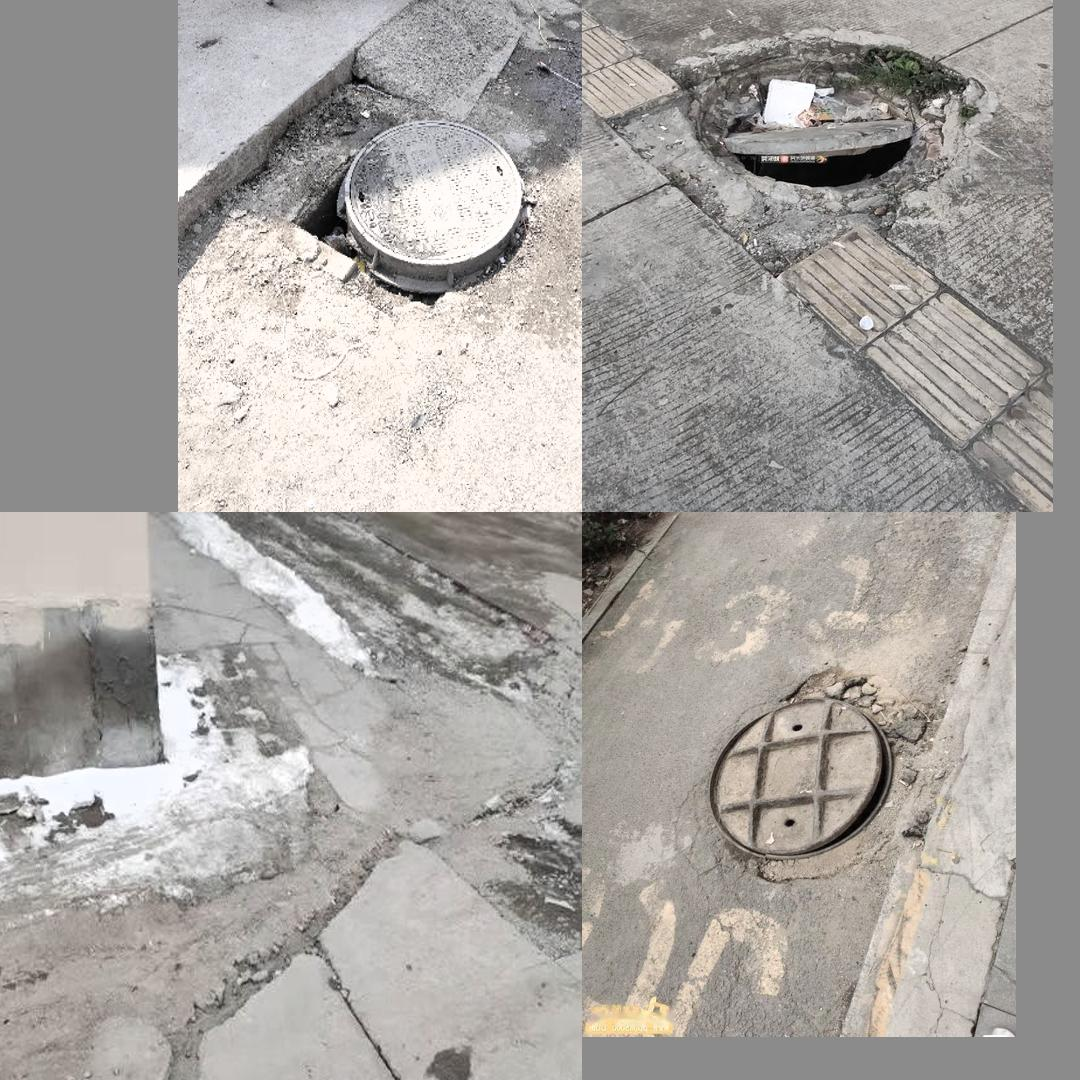circle: (626, 22, 1011, 260), (678, 663, 966, 897), (309, 107, 532, 300)
